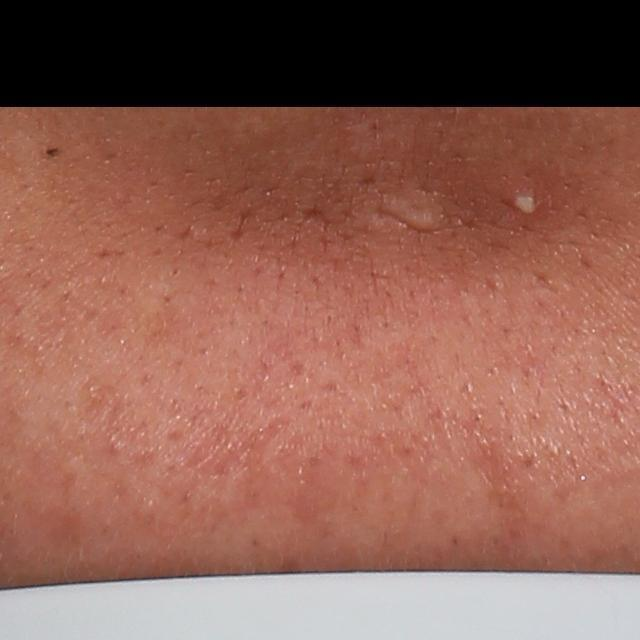atrophic_scar: (297, 206, 330, 230)
hypertrophic_scar: (386, 197, 440, 232)
nevus: (44, 147, 62, 157)
pustule: (496, 178, 553, 219)
